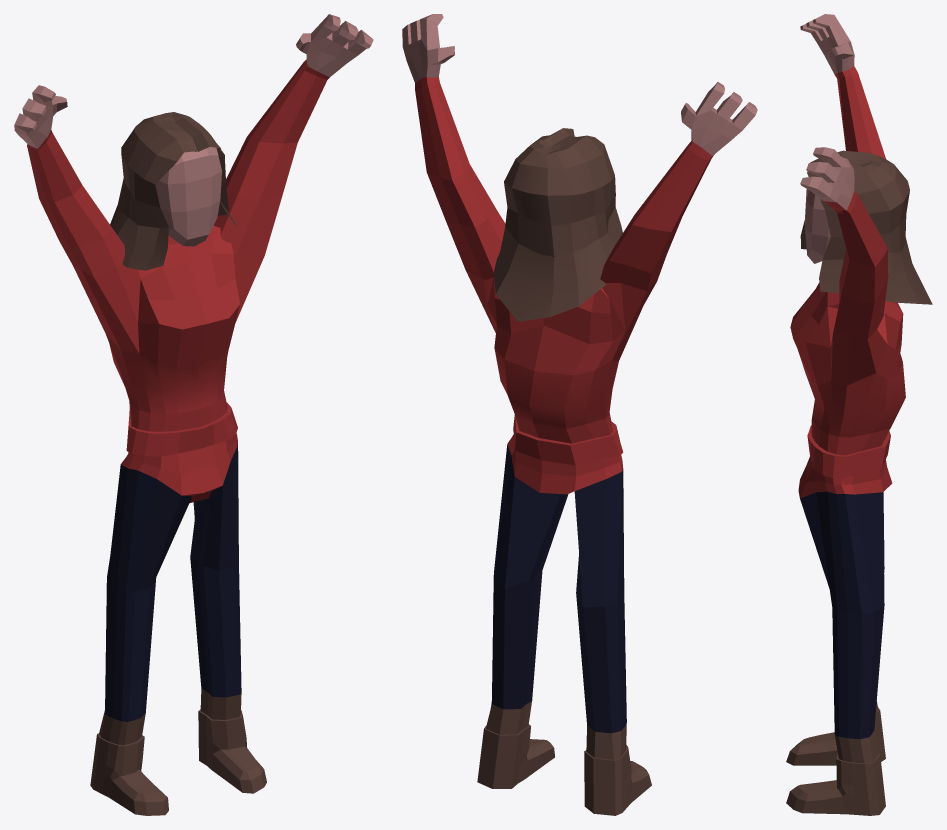
The model's file is Fan_2.fbx.
The picture shows the model from 3 angles, left to right: view 1: azimuth 30°, elevation 25°; view 2: azimuth 150°, elevation 25°; view 3: azimuth 270°, elevation 25°; orthographic projection. The views are drawn at different scales.
Visible parts, largest first — view 1: Fan_2; view 2: Fan_2; view 3: Fan_2.
Boxes of the visible parts, x1,y1,x2,y2 form: Fan_2: (14, 14, 373, 815); Fan_2: (402, 14, 757, 815); Fan_2: (786, 14, 932, 815).
Size of the model in its own units: 79.27 by 156 by 29.66.
